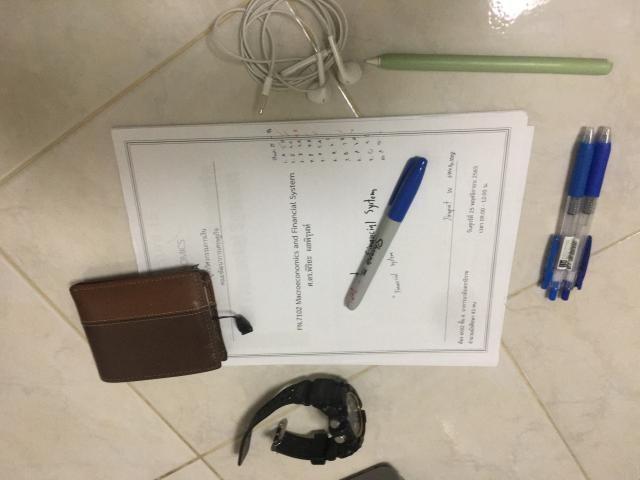Pen: (345, 156, 428, 310), (541, 126, 611, 300)
Wallet: (70, 266, 228, 382)
Watch: (238, 379, 366, 465)
paper: (111, 111, 534, 367)
wire: (214, 0, 360, 112)
